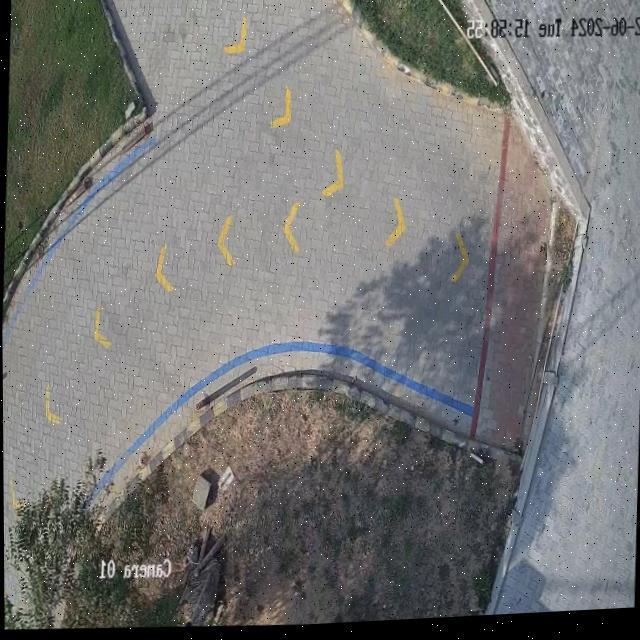No Car: (2, 0, 640, 629)
